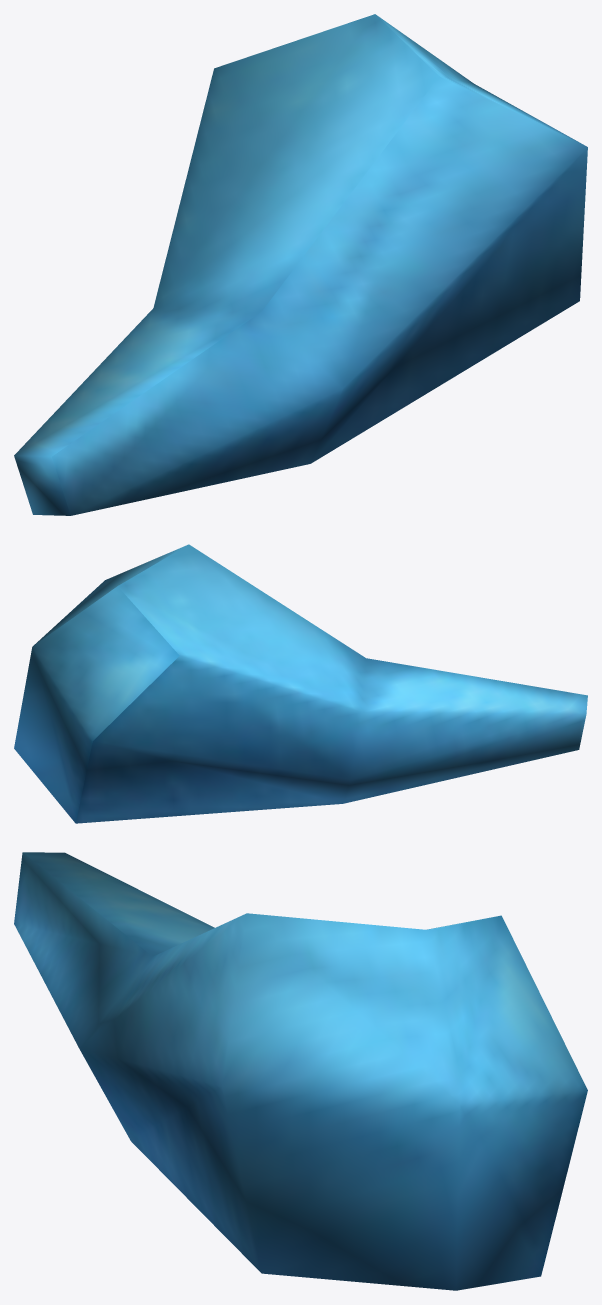
The model's file is Stage_BingYuan_BingLing14.FBX.
3 renders of one model, top to bottom at view 1: azimuth 30°, elevation 25°; view 2: azimuth 150°, elevation 25°; view 3: azimuth 270°, elevation 25°, orthographic. The views are drawn at different scales.
Visible parts, largest first — view 1: Stage_BingYuan_BingLing14; view 2: Stage_BingYuan_BingLing14; view 3: Stage_BingYuan_BingLing14.
Part boxes in pixels (<box>): Stage_BingYuan_BingLing14: <box>14,14,587,515</box>; Stage_BingYuan_BingLing14: <box>14,544,587,823</box>; Stage_BingYuan_BingLing14: <box>14,852,587,1290</box>.
Size of the model in its own units: 83.42 by 38.95 by 57.66.
